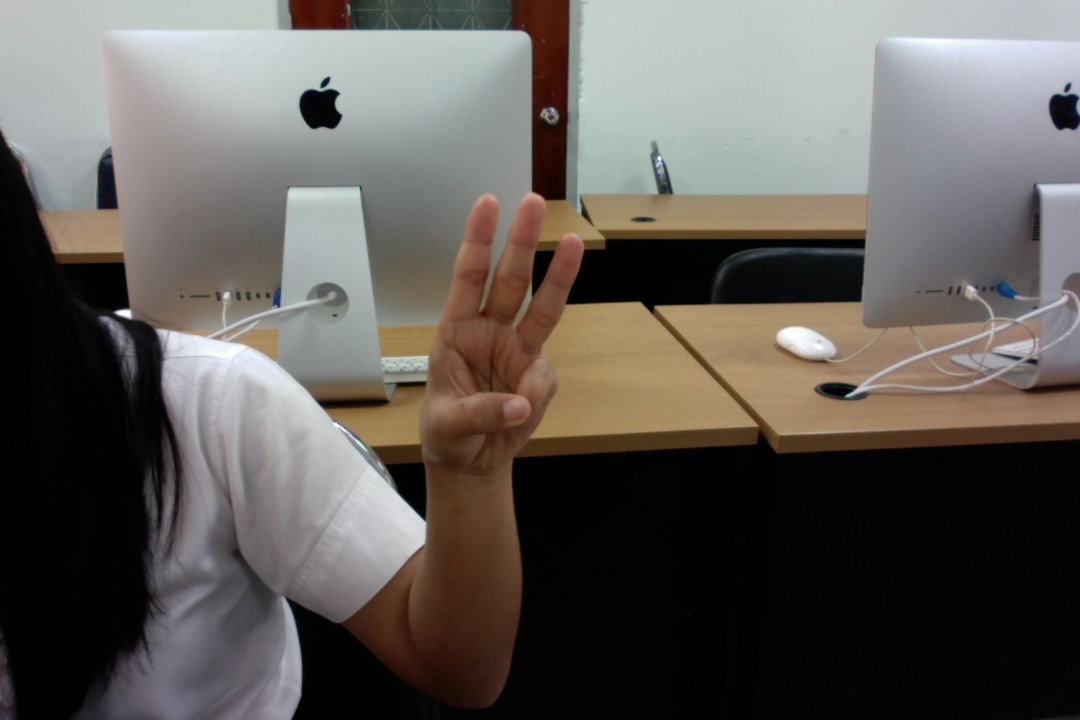wor: (402, 193, 589, 485)
